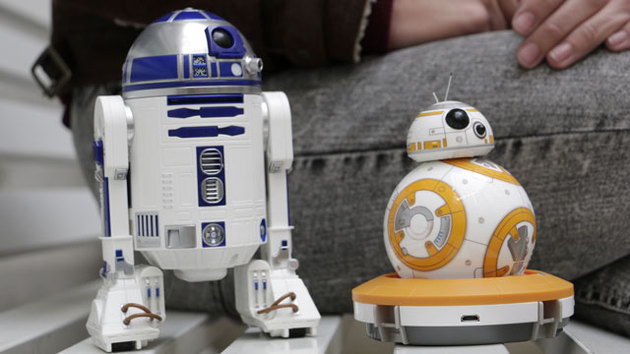r2d2: (84, 8, 320, 344)
